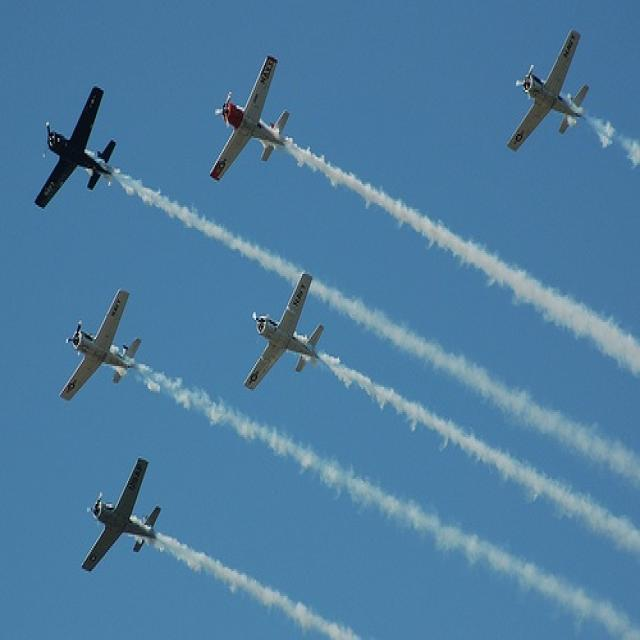aeroplane: (507, 27, 590, 157), (35, 82, 115, 214), (208, 54, 290, 182), (241, 272, 325, 391), (59, 288, 141, 404), (82, 456, 161, 571)
